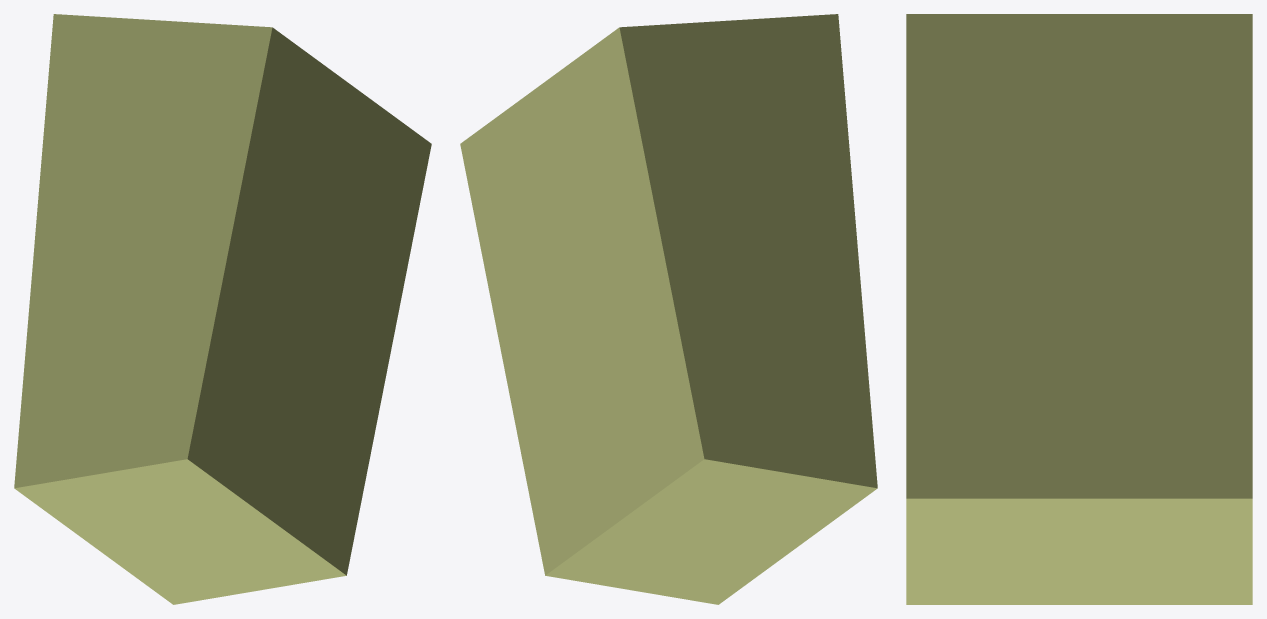
The picture shows the model from 3 angles, left to right: view 1: azimuth 30°, elevation 25°; view 2: azimuth 150°, elevation 25°; view 3: azimuth 270°, elevation 25°; orthographic projection. The views are drawn at different scales.
Visible parts, largest first — view 1: 0_1_3_2_1_1_2_2_3_3; view 2: 0_1_3_2_1_1_2_2_3_3; view 3: 0_1_3_2_1_1_2_2_3_3.
Boxes of the visible parts, x1,y1,x2,y2 form: 0_1_3_2_1_1_2_2_3_3: (14, 14, 431, 604); 0_1_3_2_1_1_2_2_3_3: (460, 14, 877, 604); 0_1_3_2_1_1_2_2_3_3: (906, 14, 1252, 604).
Size of the model in its own units: 8.43 by 14.89 by 9.
